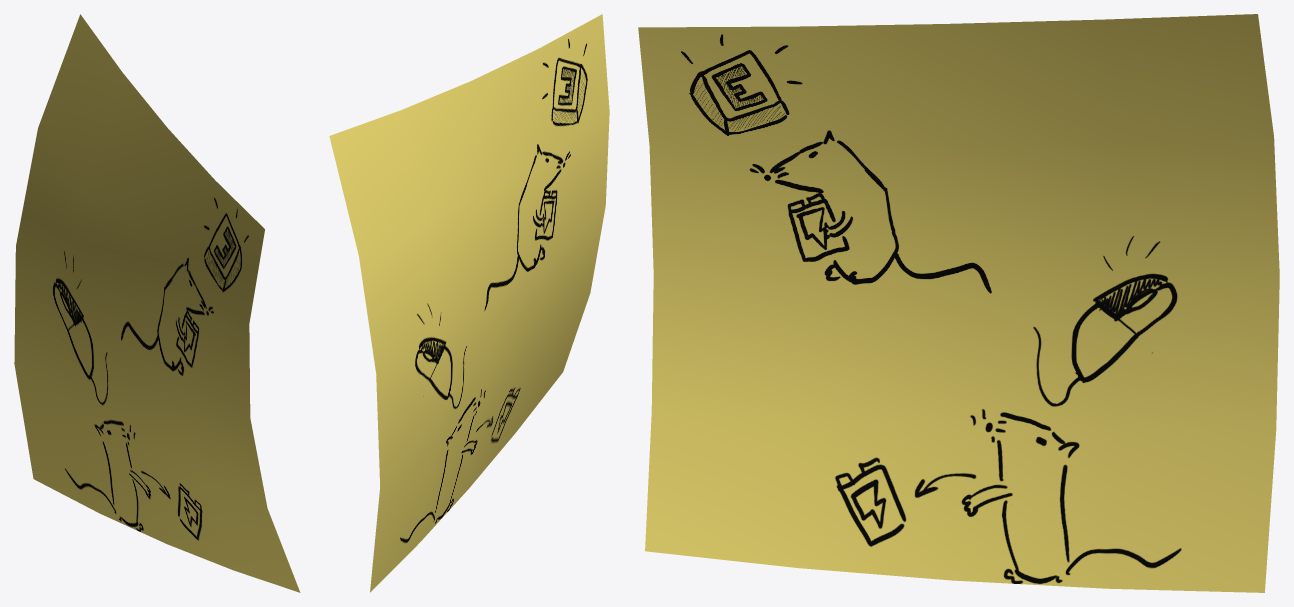
File: PostItColourGrabThrow.fbx
The picture shows the model from 3 angles, left to right: view 1: azimuth 30°, elevation 25°; view 2: azimuth 150°, elevation 25°; view 3: azimuth 270°, elevation 25°; orthographic projection. The views are drawn at different scales.
Visible parts, largest first — view 1: Cube; view 2: Cube; view 3: Cube.
Part boxes in pixels (x1,y1,x2,y2): Cube: (14, 14, 300, 592); Cube: (329, 14, 609, 592); Cube: (638, 14, 1279, 592).
Bounding box in the file's own units: 147 × 1070 × 1024.
